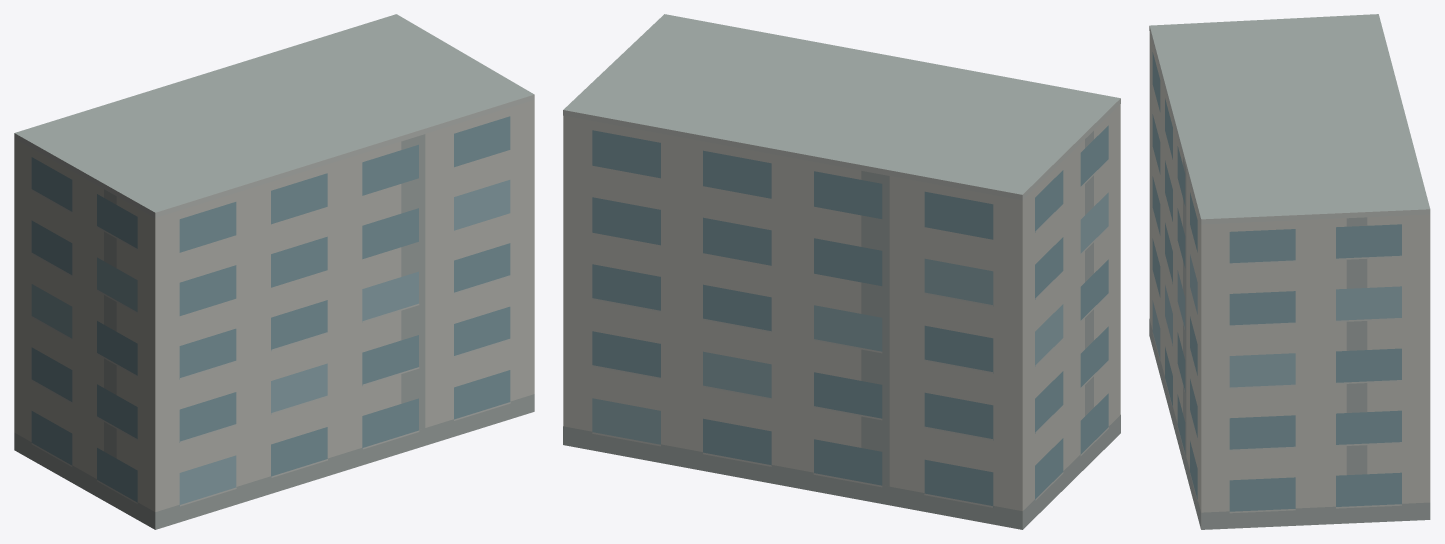
File: survey-upis-32576321.glb
3 renders of one model, left to right at view 1: azimuth 30°, elevation 25°; view 2: azimuth 150°, elevation 25°; view 3: azimuth 270°, elevation 25°, orthographic. The views are drawn at different scales.
Parts seen in each view (by area): view 1: survey-upis-32576321.tmp; view 2: survey-upis-32576321.tmp; view 3: survey-upis-32576321.tmp.
Part boxes in pixels (left/top/right/bottom): survey-upis-32576321.tmp: left=14, top=14, right=534, bottom=529; survey-upis-32576321.tmp: left=563, top=14, right=1120, bottom=529; survey-upis-32576321.tmp: left=1149, top=14, right=1430, bottom=529.
Size of the model in its own units: 20.21 by 14.25 by 11.69.
